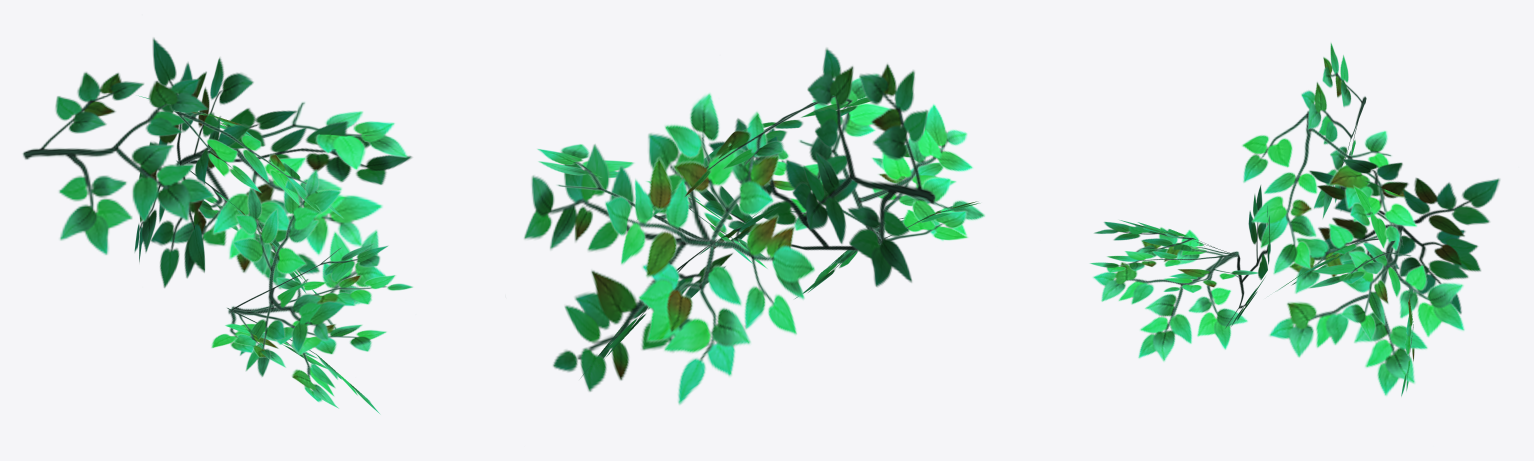
The model's file is Leaf_P2.glb.
3 renders of one model, left to right at view 1: azimuth 30°, elevation 25°; view 2: azimuth 150°, elevation 25°; view 3: azimuth 270°, elevation 25°, orthographic. The views are drawn at different scales.
Parts seen in each view (by area): view 1: Leaf_P2; view 2: Leaf_P2; view 3: Leaf_P2.
Boxes of the visible parts, x1,y1,x2,y2 form: Leaf_P2: (22, 38, 413, 414); Leaf_P2: (524, 48, 985, 404); Leaf_P2: (1089, 42, 1500, 396).
Size of the model in its own units: 1.9 by 1.6 by 2.3.
Materials: 1 (1 with a texture image).
